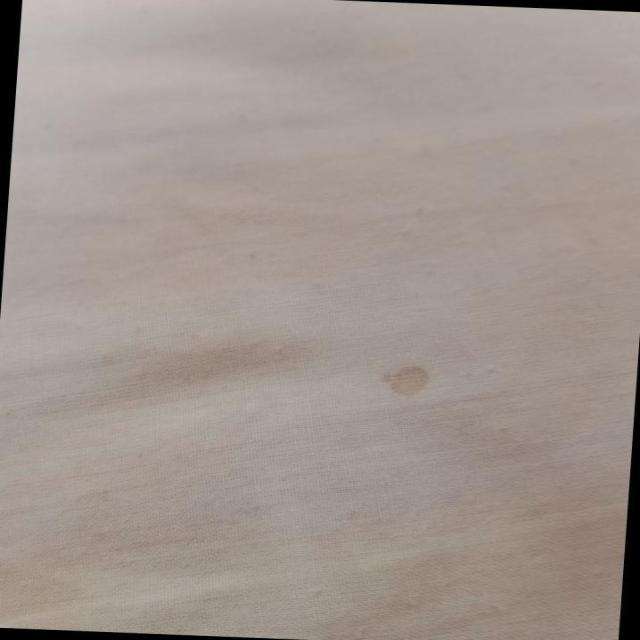stain: (366, 354, 442, 399)
